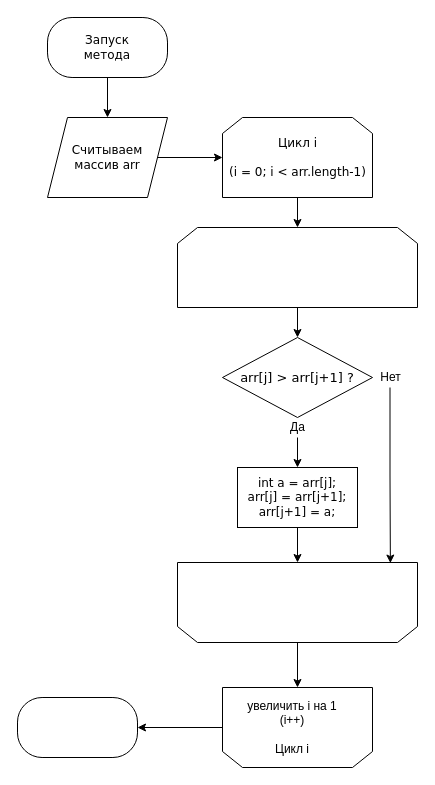
This 435x785 diagram has some shape labels left out. Here are the shapes that lost their labels. From the top down, the centre of each, then its label:
the point at 297,267: Цикл j (j = i + 1, j < arr.length)
the point at 297,602: увеличить j на 1 (j++) Цикл j
the point at 77,727: Завершение метода
